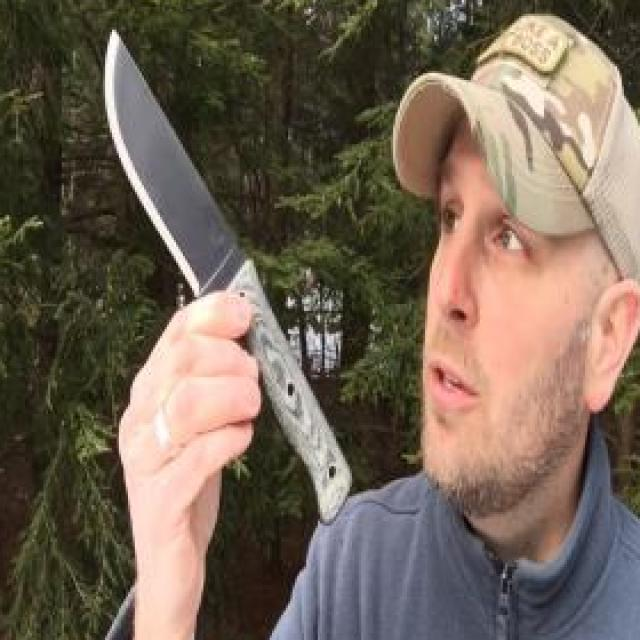knife: (96, 9, 272, 456)
